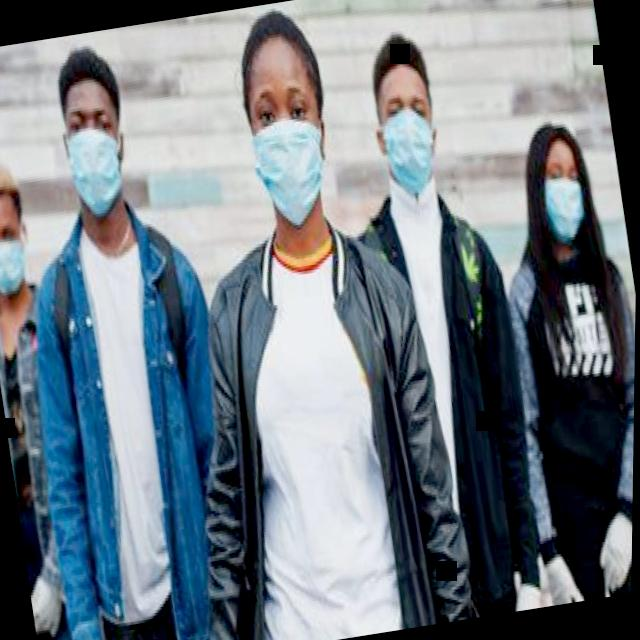Mask: (234, 27, 339, 230), (51, 56, 136, 218), (366, 49, 446, 194), (527, 130, 593, 247), (0, 157, 37, 297)
